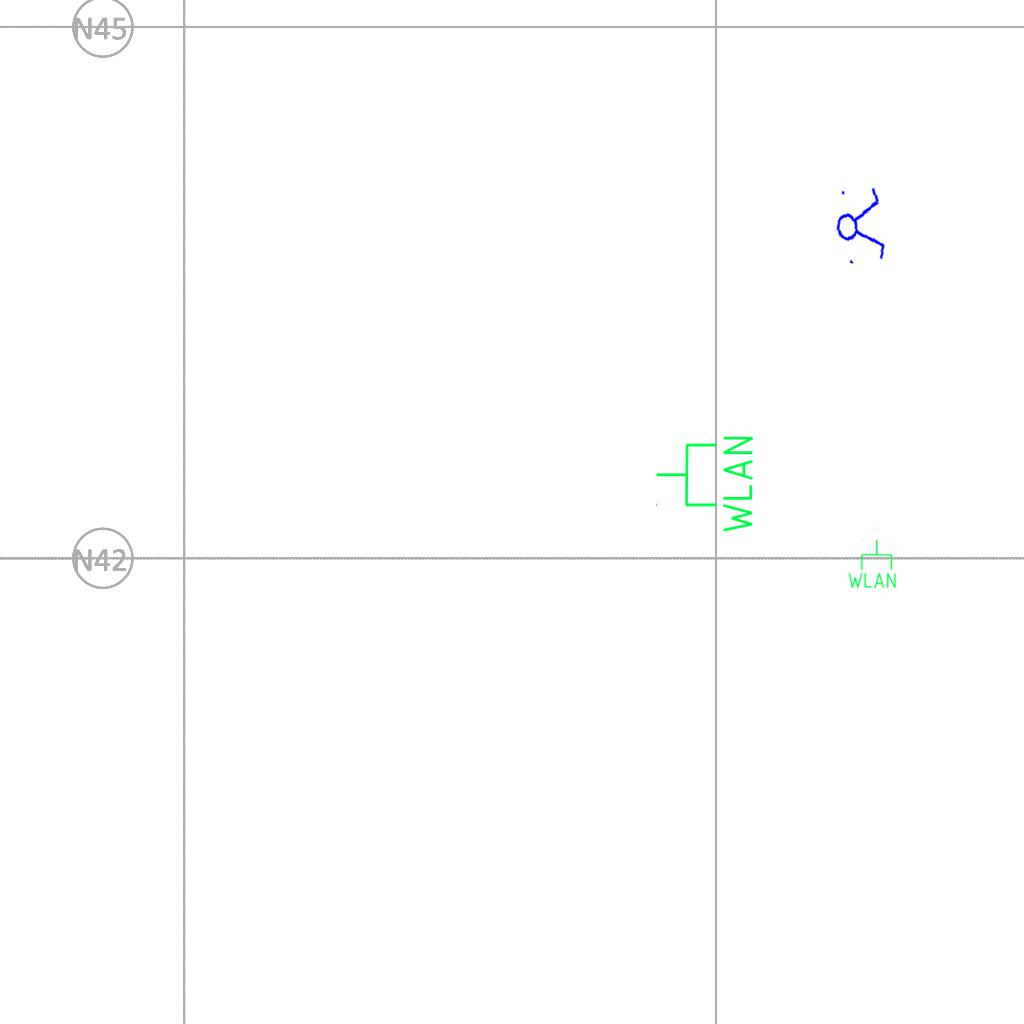Serienschalter: (831, 180, 889, 270)
WLAN: (653, 432, 757, 537), (846, 538, 898, 590)
